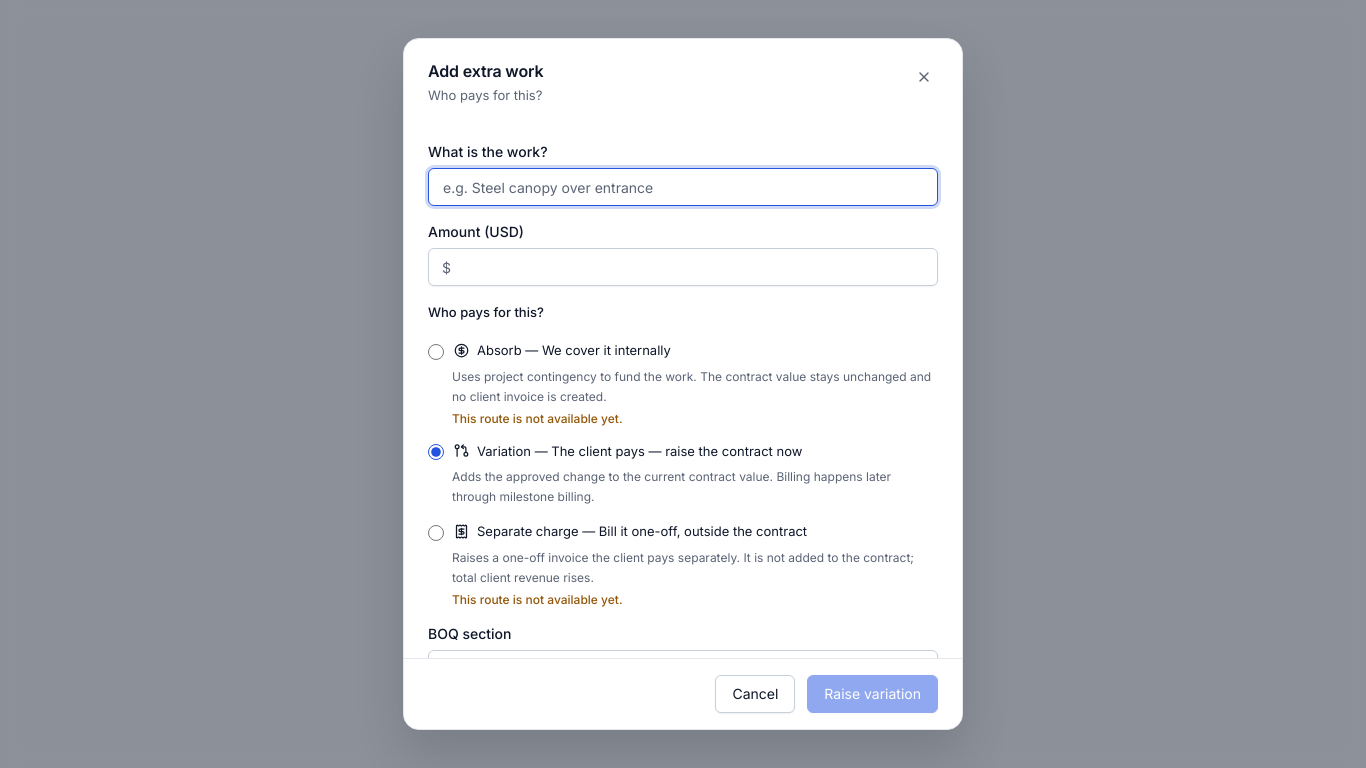
Test: BoqClassifierDialog — decision-first who-pays › previews the variation consequence against the live contract value
# Entering an amount projects Contract 2,340,000 → 2,342,000 for the Variation route.
Type "Steel canopy" into the field labelled "What is the work?". click: (683, 187)
box: [428,168,938,206]
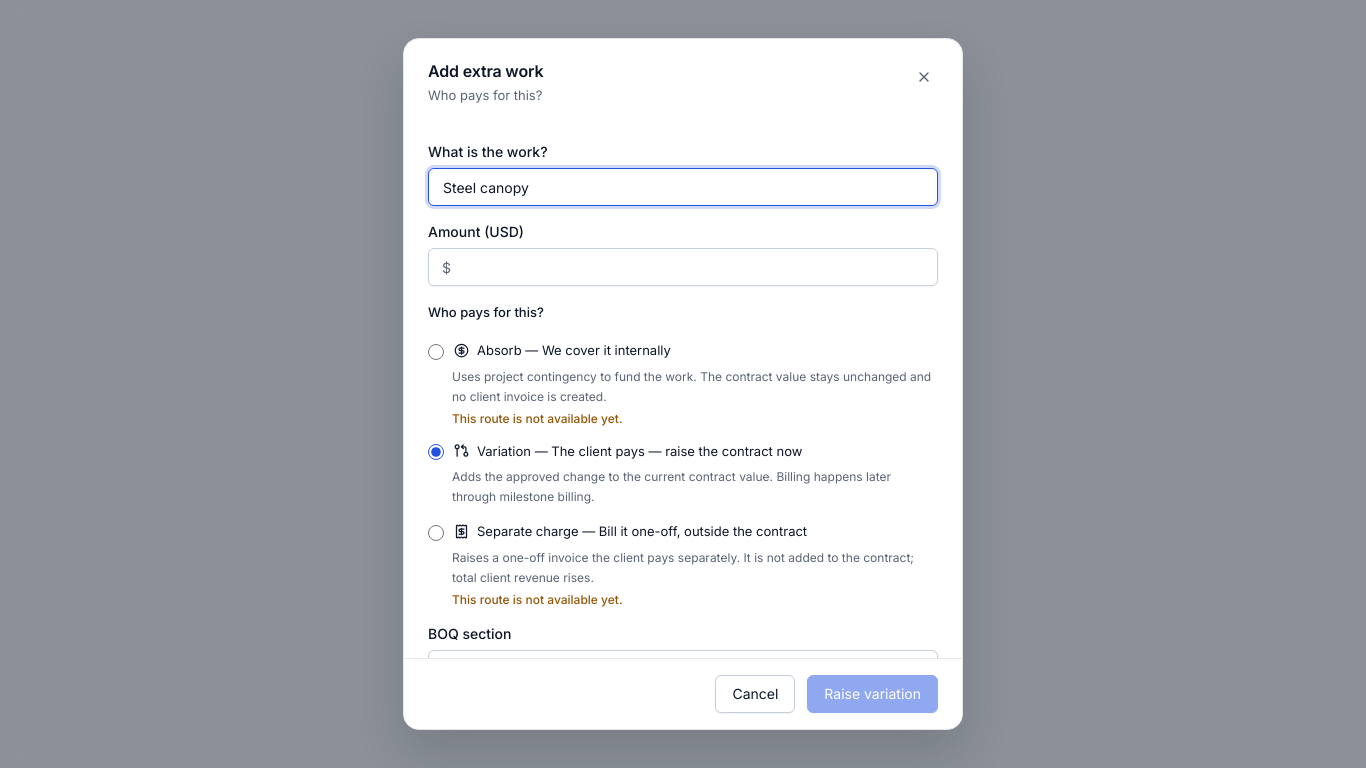
Type "2000" into the field labelled "Amount (USD)". click: (683, 267)
box: [428,248,938,286]
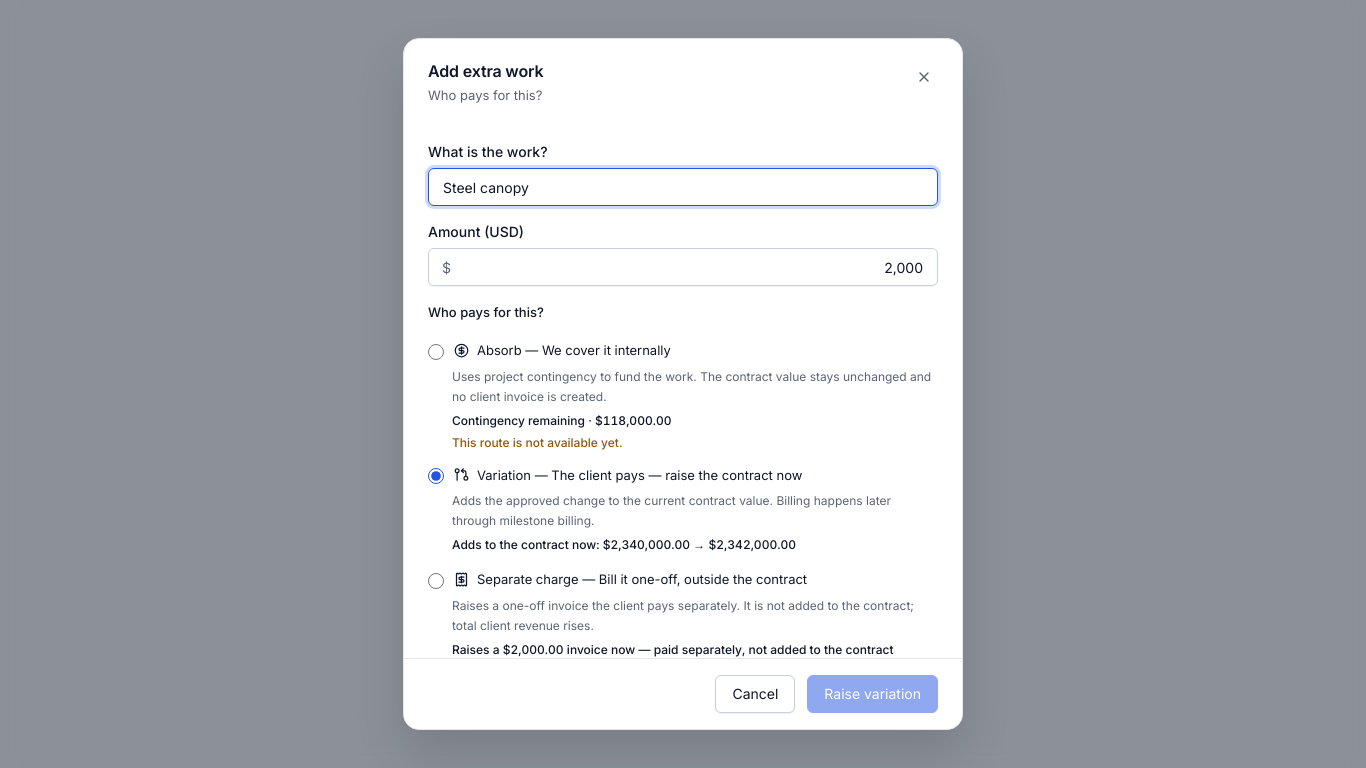
Check: the text "Adds to the contract now: $2,340,000.00 → $2,342,000.00" is shown, box [452,537,796,552]
